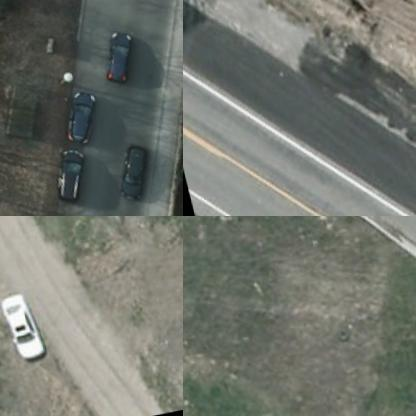car: (48, 87, 98, 147), (0, 294, 39, 368), (90, 31, 134, 88), (42, 155, 80, 207), (104, 152, 139, 203)
